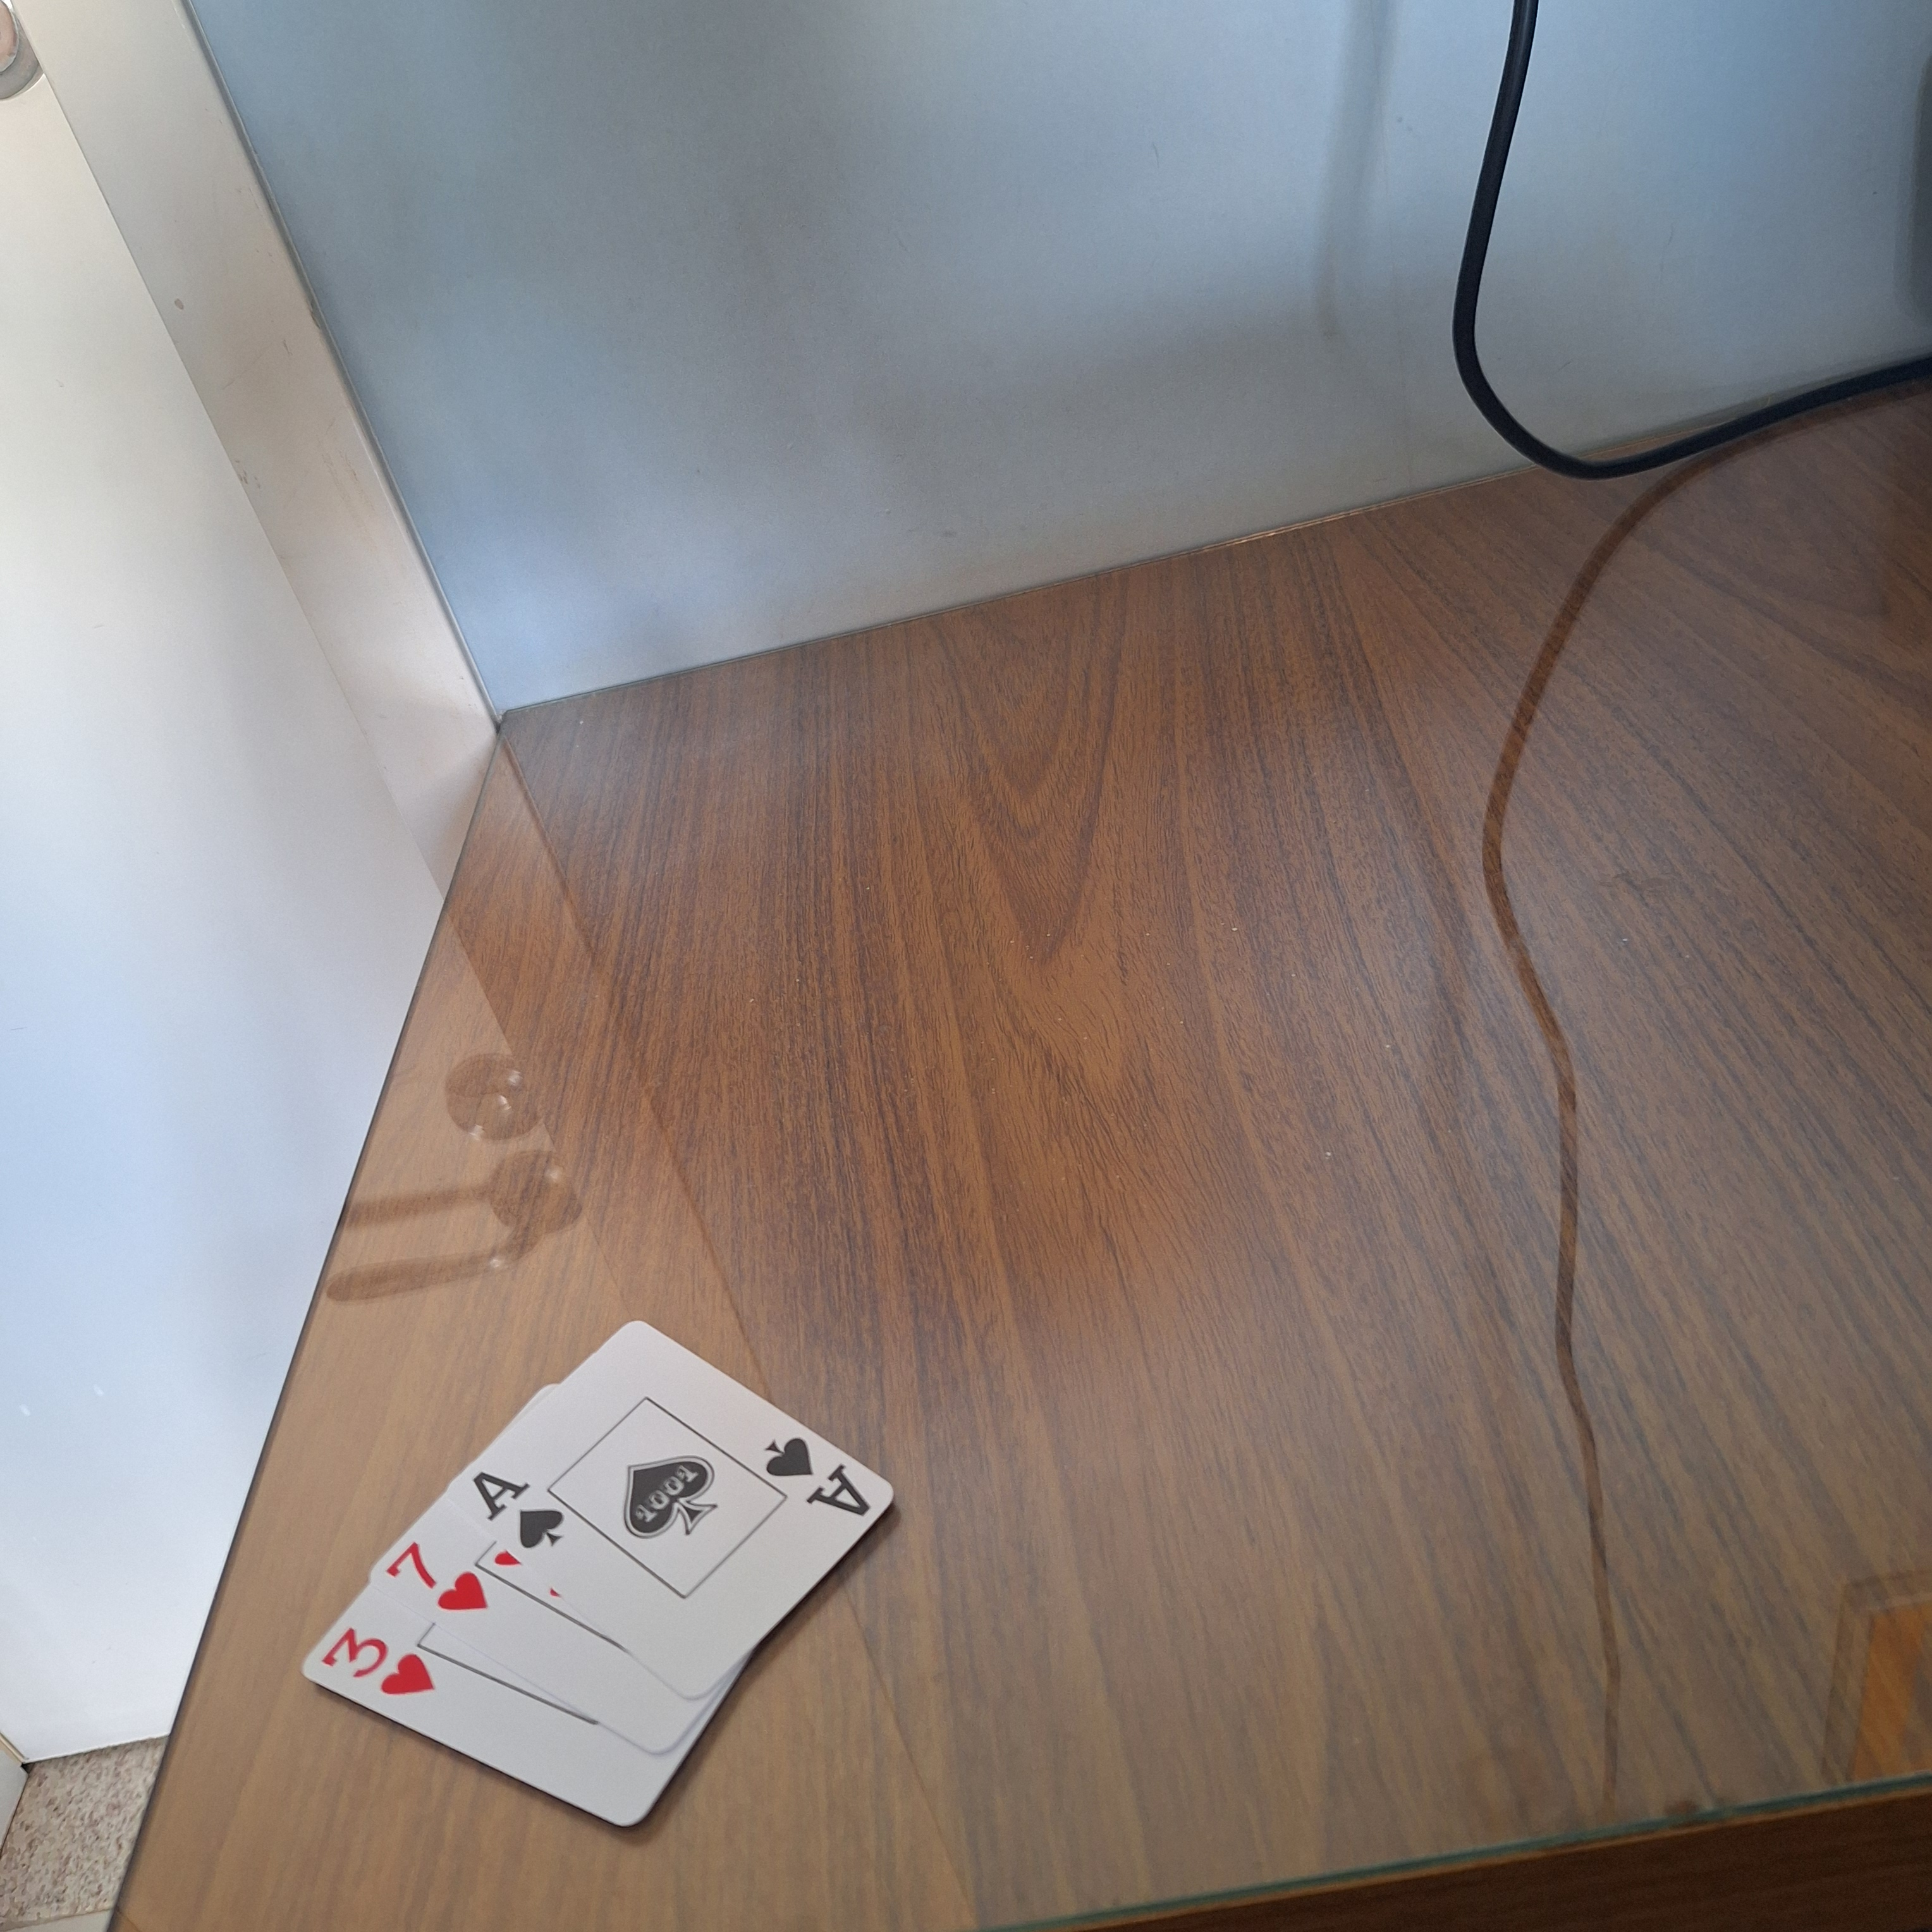3C: (311, 1617, 449, 1725)
7C: (379, 1534, 492, 1631)
AE: (750, 1419, 881, 1539), (462, 1460, 580, 1555)
